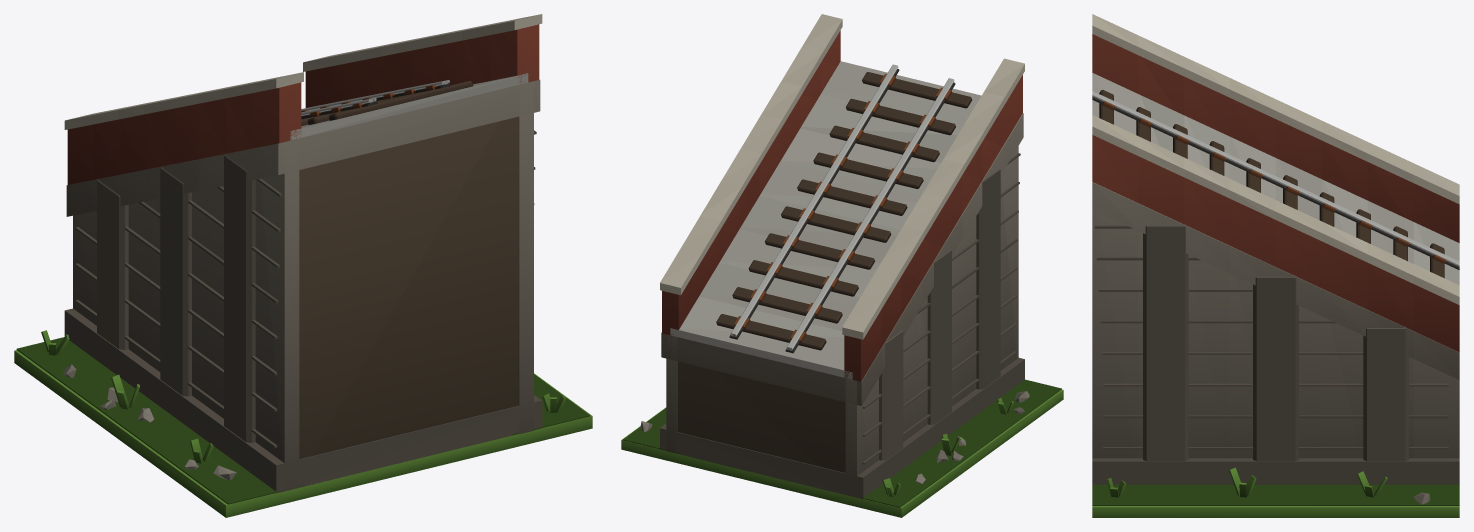
File: track-gradient-ramp-high-tile.glb
The picture shows the model from 3 angles, left to right: view 1: azimuth 30°, elevation 25°; view 2: azimuth 150°, elevation 25°; view 3: azimuth 270°, elevation 25°; orthographic projection. The views are drawn at different scales.
Visible parts, largest first — view 1: track_gradient_ramp_high_tile; view 2: track_gradient_ramp_high_tile; view 3: track_gradient_ramp_high_tile.
Part boxes in pixels (<box>): track_gradient_ramp_high_tile: <box>14,14,592,517</box>; track_gradient_ramp_high_tile: <box>621,14,1063,517</box>; track_gradient_ramp_high_tile: <box>1092,14,1459,517</box>.
Size of the model in its own units: 4 by 4.45 by 4.
